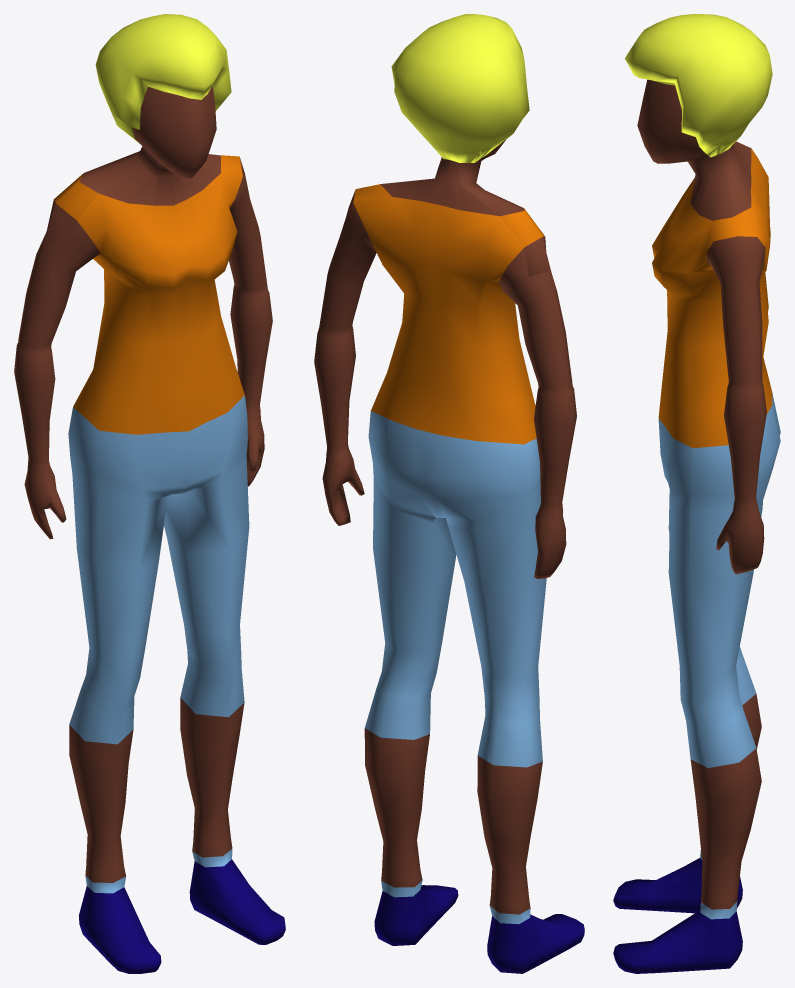
Rendered from chara still 5.fbx.
The picture shows the model from 3 angles, left to right: view 1: azimuth 30°, elevation 25°; view 2: azimuth 150°, elevation 25°; view 3: azimuth 270°, elevation 25°; orthographic projection.
Parts seen in each view (by area): view 1: corpo.004_sapatoM2_0; view 2: corpo.004_sapatoM2_0; view 3: corpo.004_sapatoM2_0.
Part boxes in pixels (x1,y1,x2,y2): corpo.004_sapatoM2_0: (14, 14, 285, 973); corpo.004_sapatoM2_0: (314, 14, 584, 973); corpo.004_sapatoM2_0: (613, 14, 780, 973).
Size of the model in its own units: 92.75 by 317 by 52.72.
